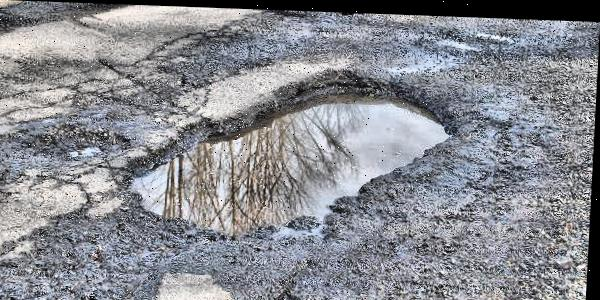pothole: (119, 57, 463, 246), (33, 120, 120, 165)
